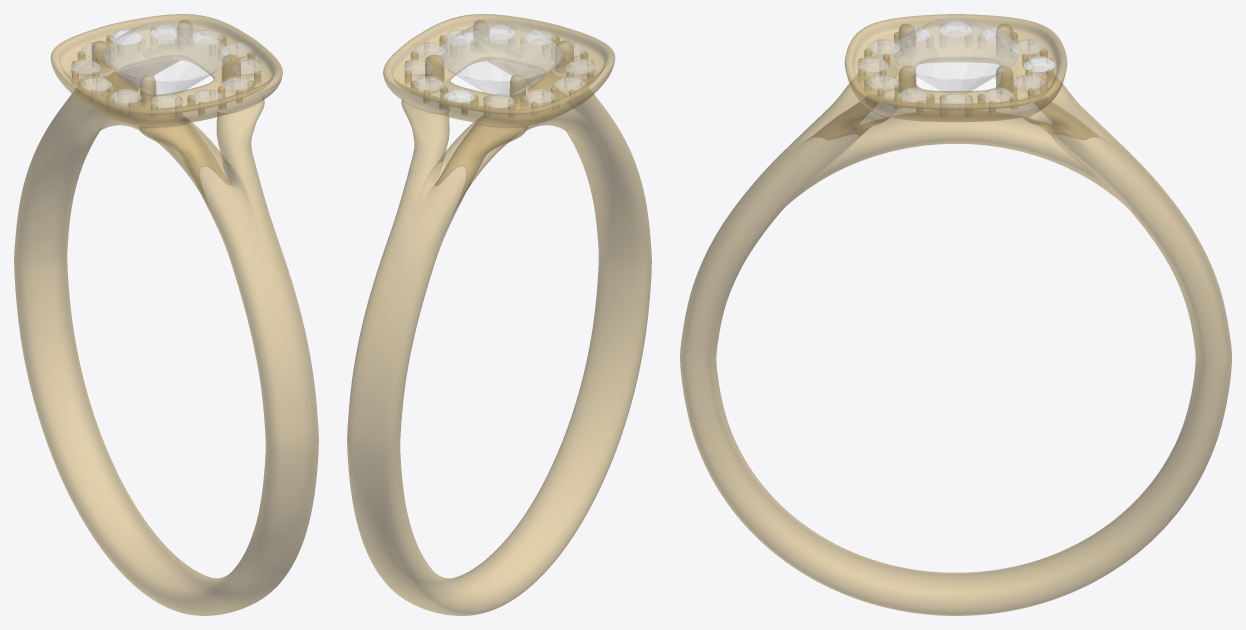
3 views of the same model, side by side, from view 1: azimuth 30°, elevation 25°; view 2: azimuth 150°, elevation 25°; view 3: azimuth 270°, elevation 25° (orthographic). The views are drawn at different scales.
Parts seen in each view (by area): view 1: Ring, Diamond; view 2: Ring, Diamond; view 3: Ring, Diamond.
Part boxes in pixels (x1,y1,x2,y2): Ring: (14, 14, 318, 615); Diamond: (70, 21, 262, 108); Ring: (347, 14, 651, 615); Diamond: (403, 21, 595, 108); Ring: (680, 14, 1231, 615); Diamond: (856, 17, 1055, 112).
Size of the model in its own units: 0.9091 by 2.64 by 2.28.
